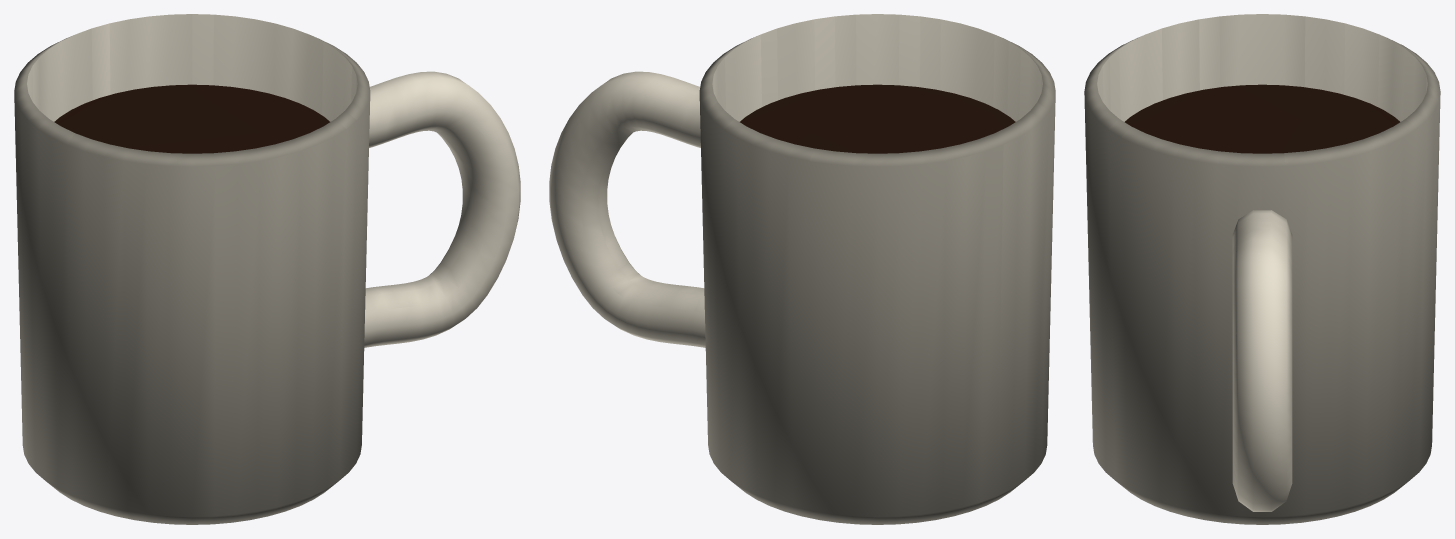
File: mug.glb
The picture shows the model from 3 angles, left to right: view 1: azimuth 30°, elevation 25°; view 2: azimuth 150°, elevation 25°; view 3: azimuth 270°, elevation 25°; orthographic projection.
Parts seen in each view (by area): view 1: Tazza; view 2: Tazza; view 3: Tazza.
Boxes of the visible parts, x1,y1,x2,y2 form: Tazza: (14,14,520,524); Tazza: (549,14,1055,524); Tazza: (1084,14,1440,524).
Bounding box in the file's own units: 0.1302 × 0.098 × 0.084.
